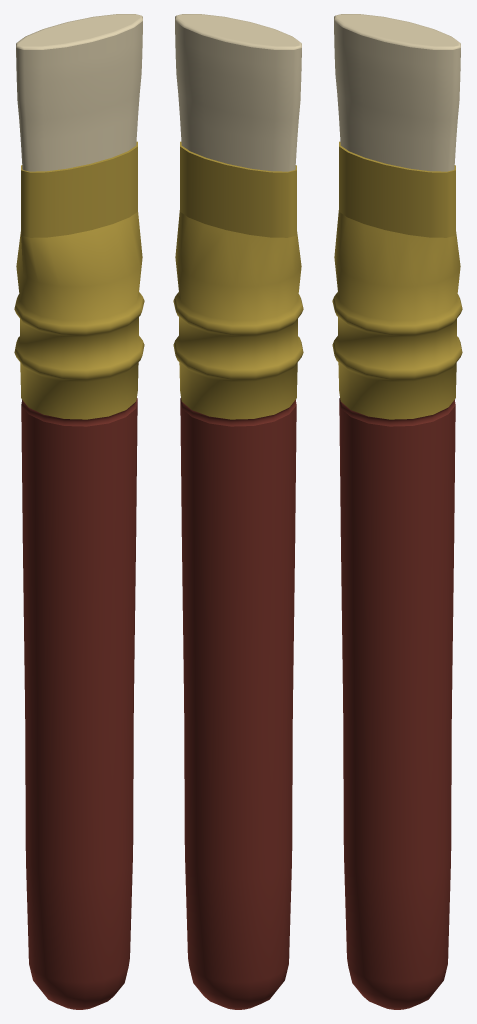
Rendered from brush_1.fbx.
The picture shows the model from 3 angles, left to right: view 1: azimuth 30°, elevation 25°; view 2: azimuth 150°, elevation 25°; view 3: azimuth 330°, elevation 25°; orthographic projection.
Visible parts, largest first — view 1: brush 1; view 2: brush 1; view 3: brush 1.
Part boxes in pixels (box(x1,y1,x2,y2)): brush 1: box(14, 14, 144, 1009); brush 1: box(173, 14, 303, 1009); brush 1: box(332, 14, 462, 1009).
Size of the model in its own units: 0.4218 by 3.1 by 0.3686.
